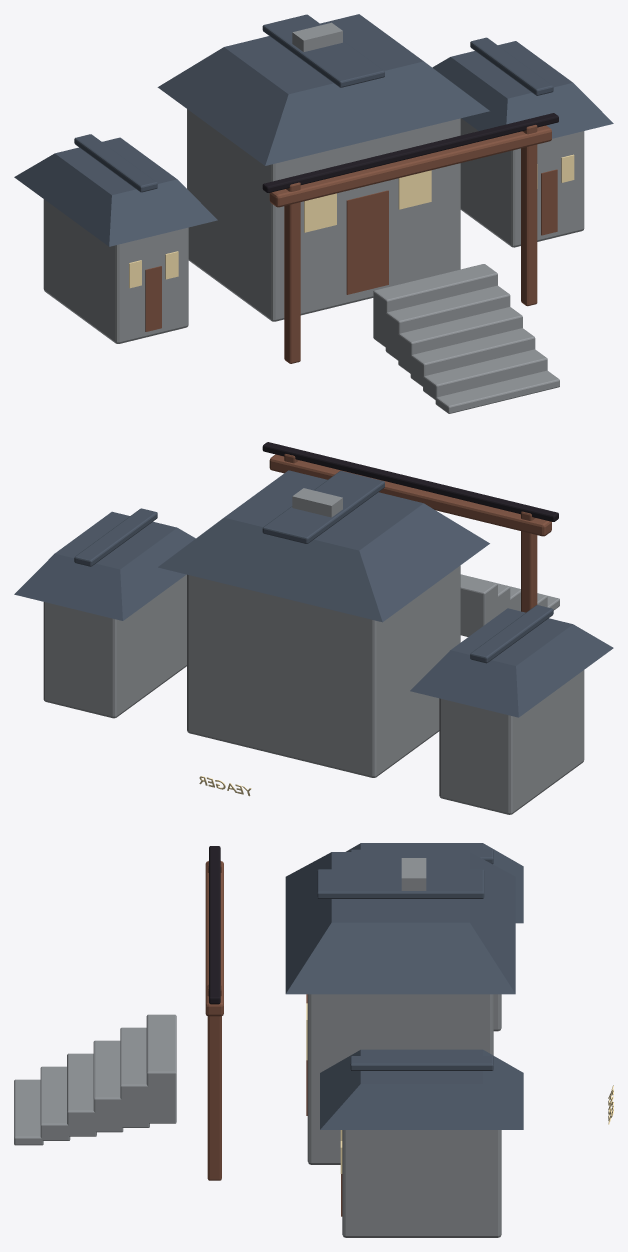
The model's file is 13_yeager.glb.
The picture shows the model from 3 angles, top to bottom: view 1: azimuth 30°, elevation 25°; view 2: azimuth 150°, elevation 25°; view 3: azimuth 270°, elevation 25°; orthographic projection. The views are drawn at different scales.
Visible parts, largest first — view 1: cliff_main_body.002; view 2: cliff_main_body.002; view 3: cliff_main_body.002.
Part boxes in pixels (bbox=[...]): cliff_main_body.002: bbox=[14, 14, 613, 413]; cliff_main_body.002: bbox=[14, 442, 613, 814]; cliff_main_body.002: bbox=[14, 843, 523, 1237].
Bounding box in the file's own units: 14.08 × 6.2 × 13.55.
